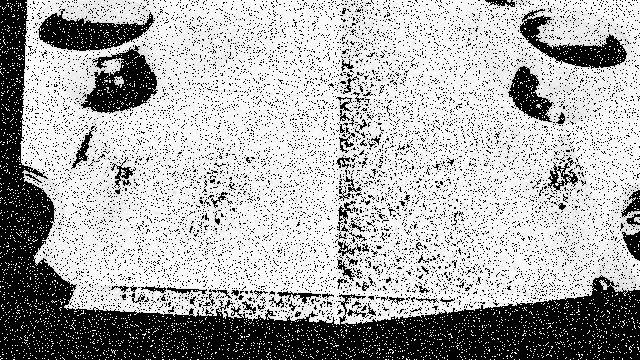pot: (505, 2, 636, 124), (25, 0, 163, 112)
